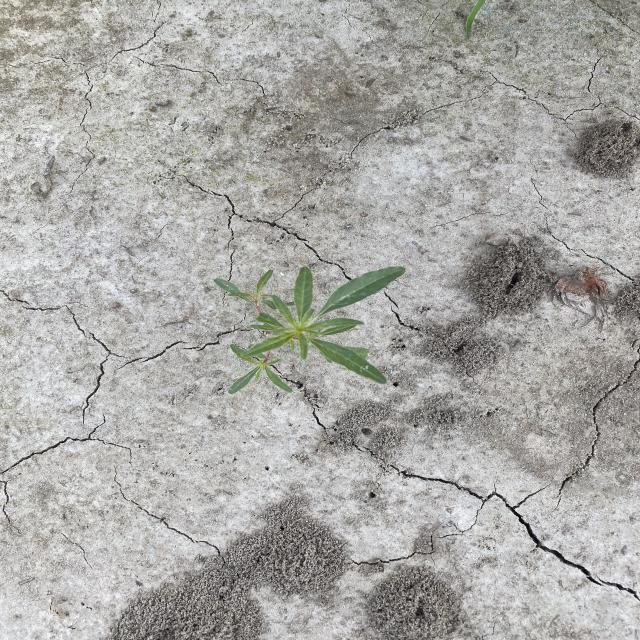Waterhemp: (212, 264, 408, 396)
